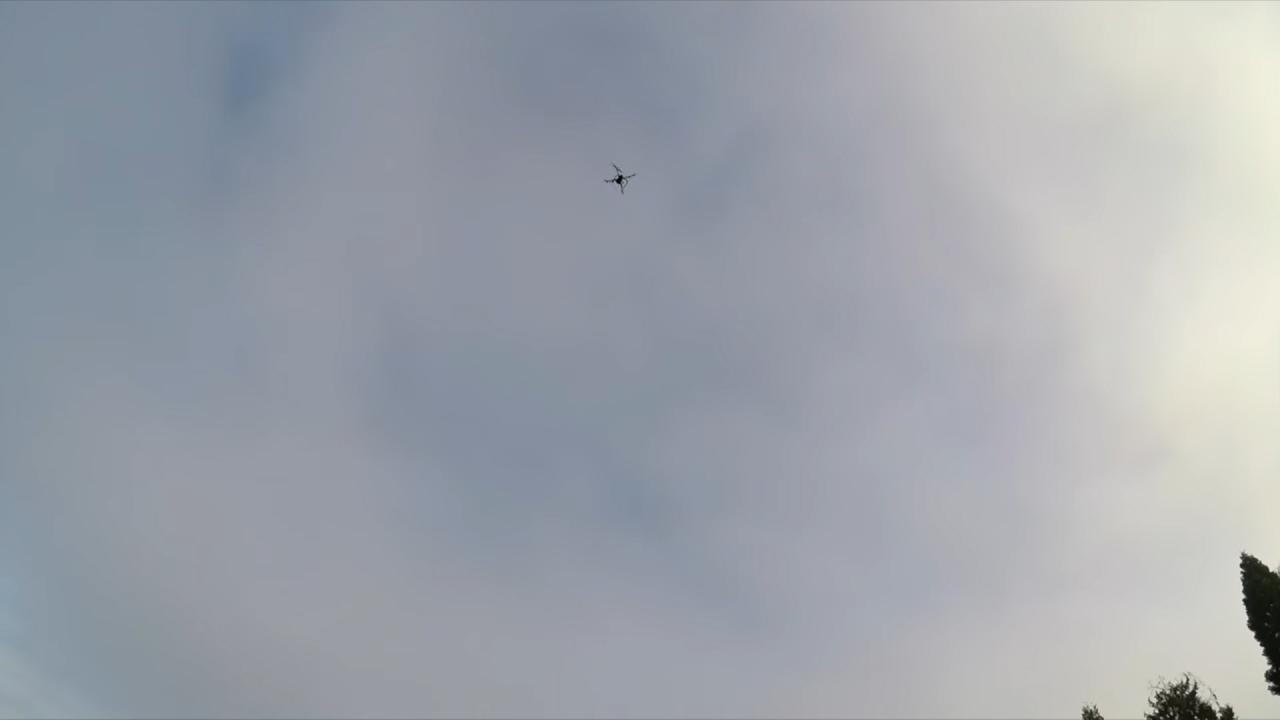Drone: (601, 159, 640, 202)
